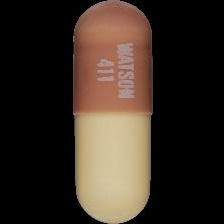54868-6190: (0, 0, 224, 224)
